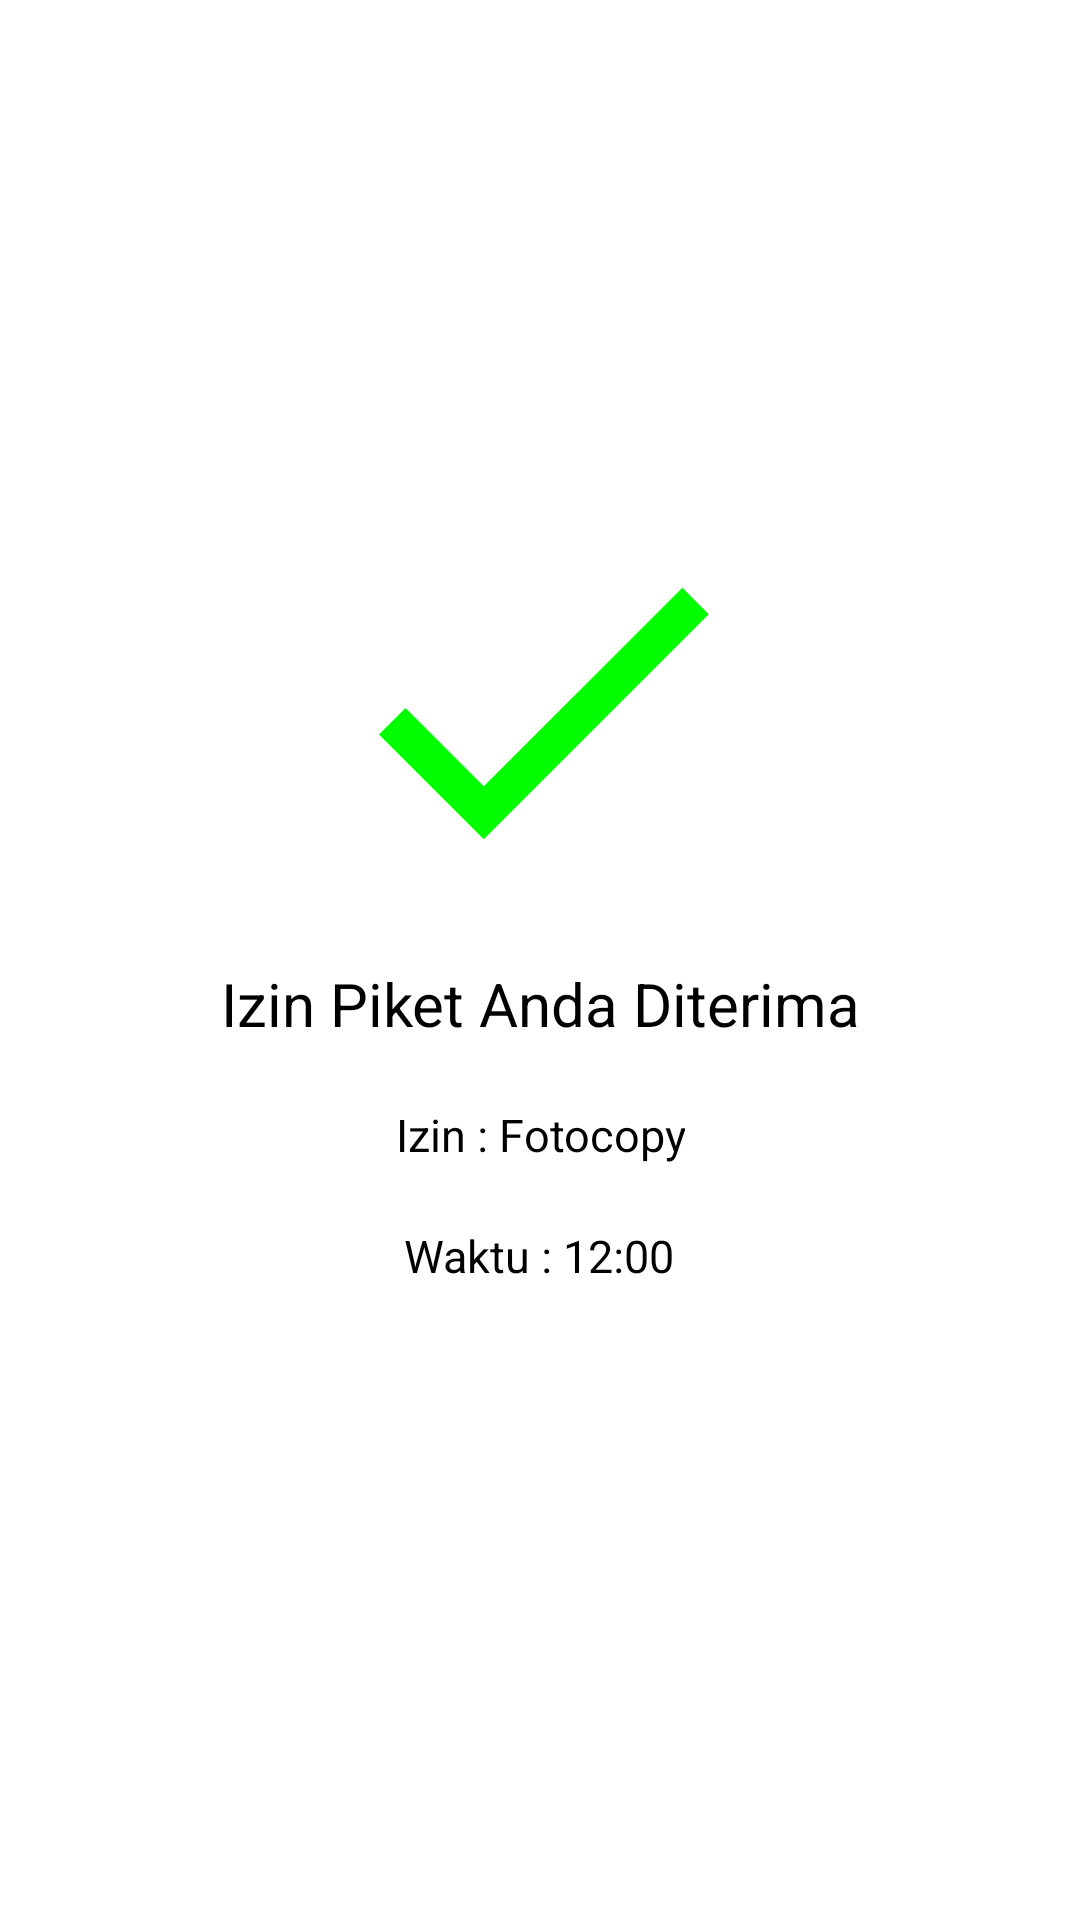

Named icons in this screenshot (1080x1920) and their bounding boxes, bbox=[x1, y1, x2, y2]:
check: bbox=[379, 588, 709, 839]
